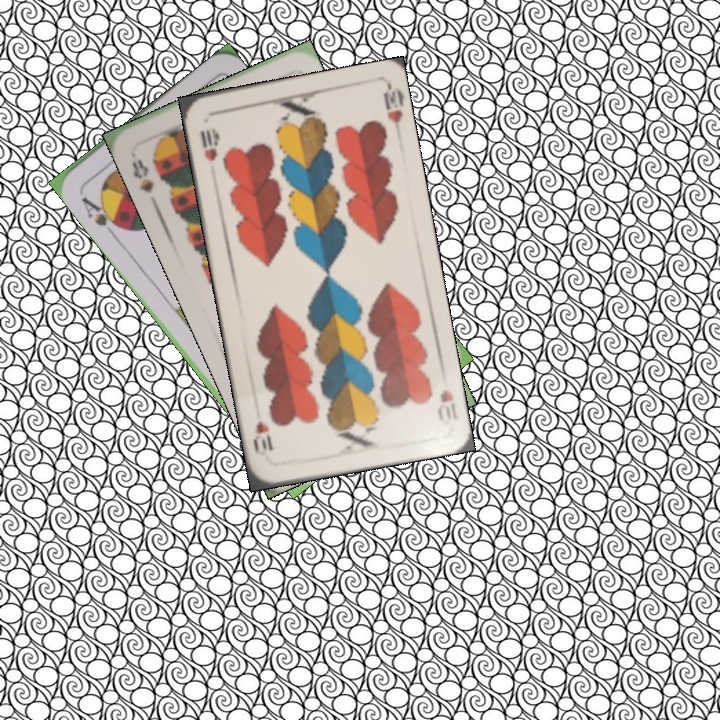H10: (433, 385, 460, 428), (196, 123, 221, 164)
S8: (127, 155, 157, 195)
SA: (77, 192, 125, 238)
